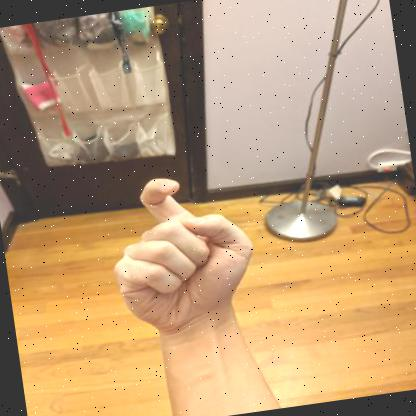X: (113, 178, 252, 335)
